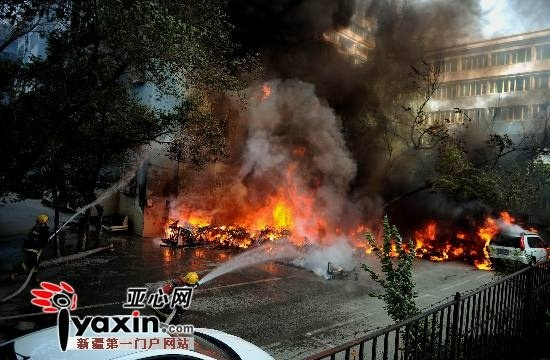fire: (170, 172, 335, 246), (396, 213, 535, 268)
